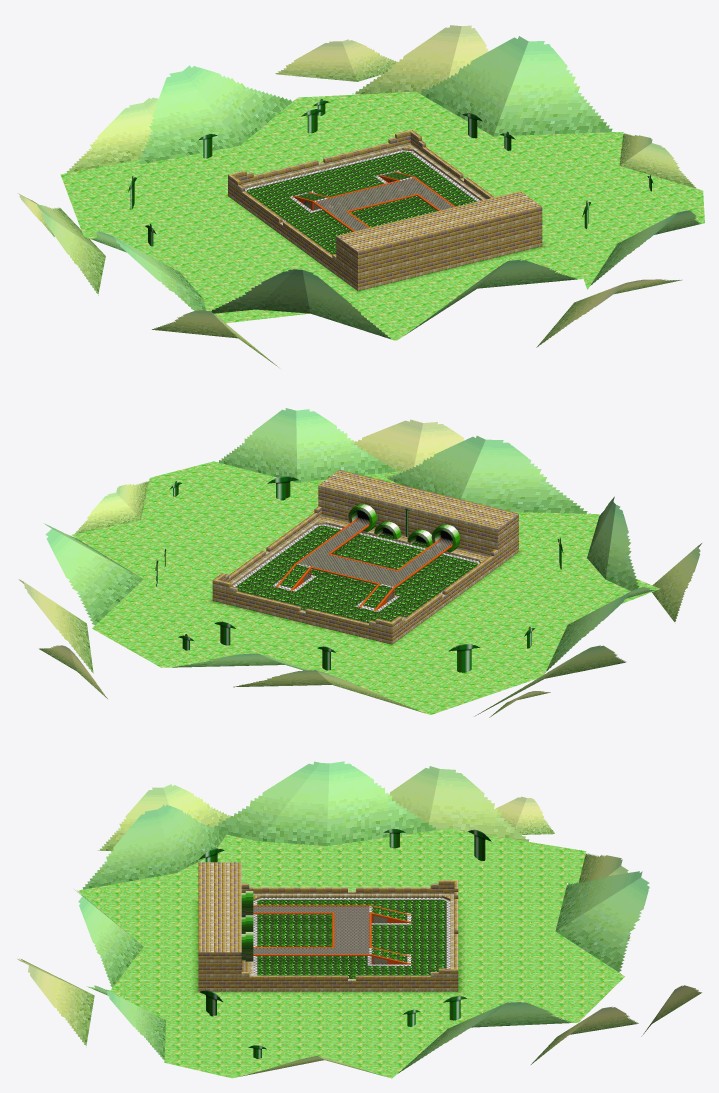
Rendered from mini_dokan_gc-mini_dokan_gc.glb.
The picture shows the model from 3 angles, top to bottom: view 1: azimuth 30°, elevation 25°; view 2: azimuth 150°, elevation 25°; view 3: azimuth 270°, elevation 25°; orthographic projection. The views are drawn at different scales.
Visible parts, largest first — view 1: mini_dokan_gc; view 2: mini_dokan_gc; view 3: mini_dokan_gc.
Part boxes in pixels (<box>): mini_dokan_gc: <box>17,25,704,367</box>; mini_dokan_gc: <box>18,408,701,717</box>; mini_dokan_gc: <box>17,761,701,1078</box>.
Size of the model in its own units: 259 by 36.7 by 274.
9 materials, 9 textured.
